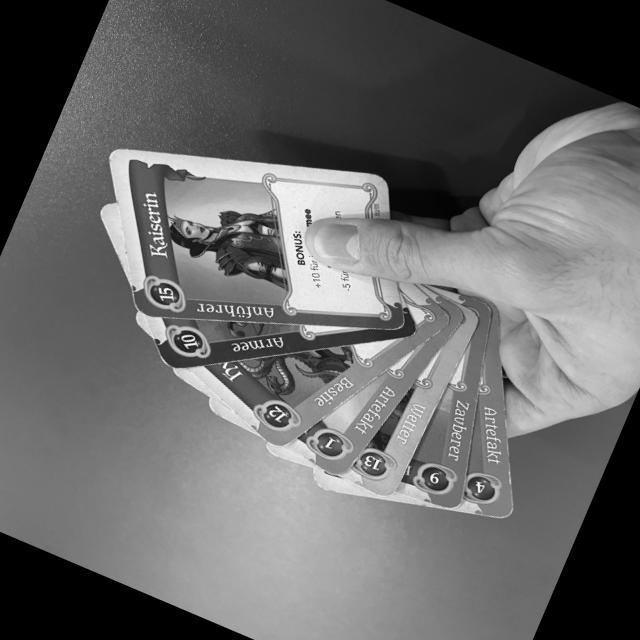Beast Master: (396, 321, 492, 511)
Elven Archers: (144, 318, 415, 370)
Empress: (104, 146, 405, 330)
Hydra: (188, 338, 425, 451)
Rune Of Protection: (286, 320, 464, 479)
Shield Of Keth: (458, 313, 512, 520)
Whirlwind: (343, 322, 477, 501)
